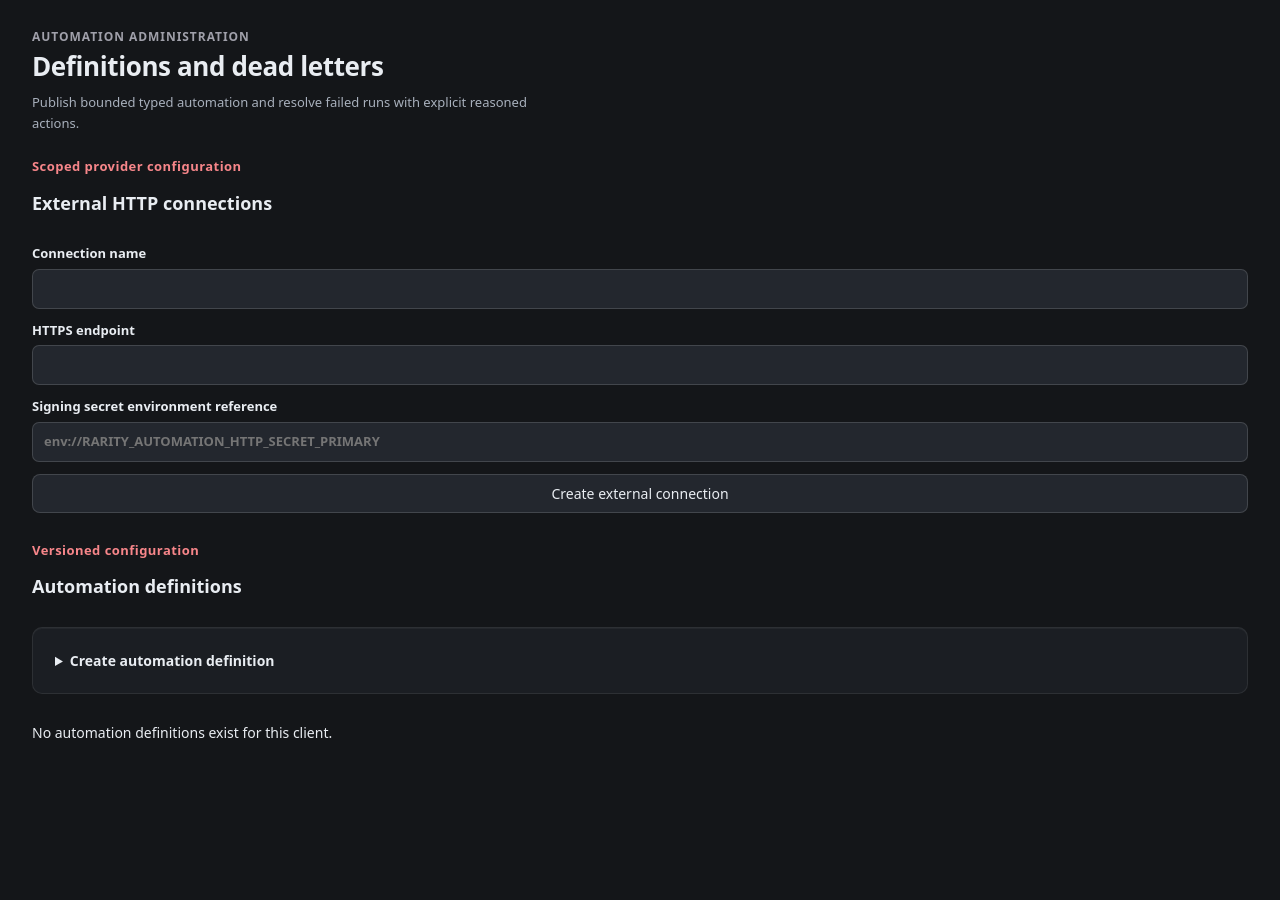
Test: creates a scoped external HTTP connection for typed automation steps
Expected: the text "No automation definitions exist for this client." is shown, [32,723,332,742]
Type "Synthetic callback" into the field labelled "Connection name" at (640, 289), box [32,269,1248,309]
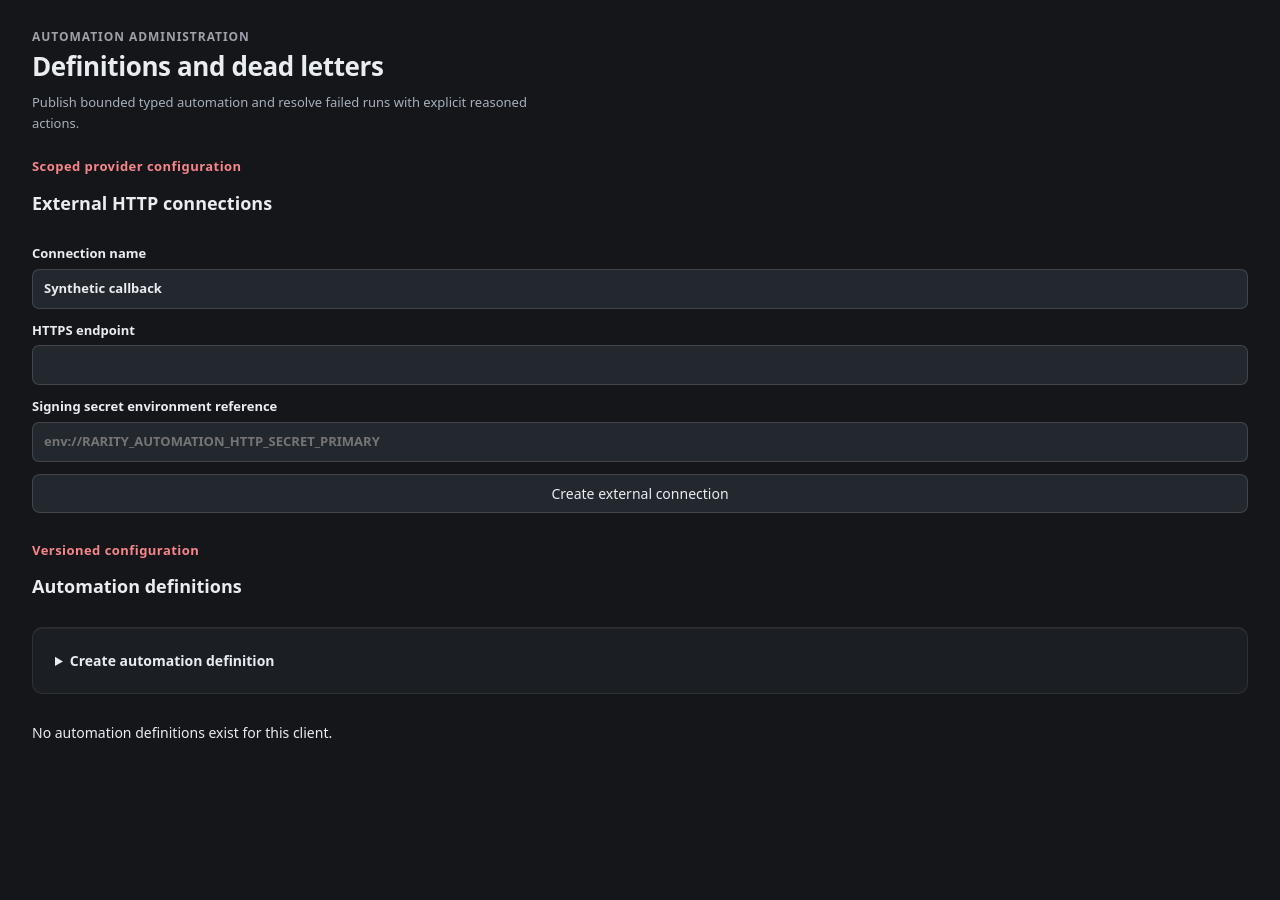
Type "https://httpbin.org/status/204" into the field labelled "HTTPS endpoint" at (640, 365), box [32,345,1248,385]
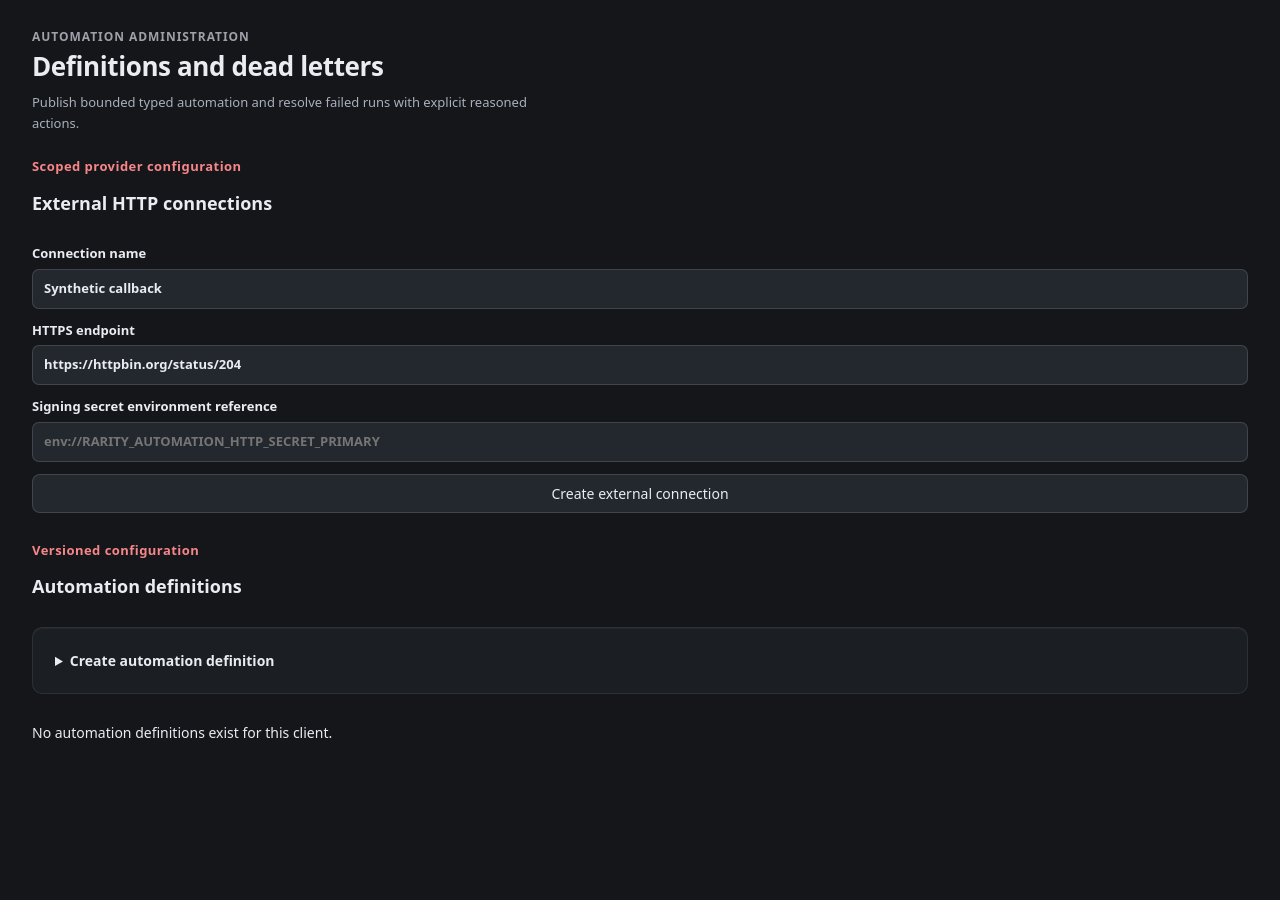
Type "env://RARITY_AUTOMATION_HTTP_SECRET_ACCEPTANCE" into the field labelled "Signing secret environment reference" at (640, 442), box [32,422,1248,462]
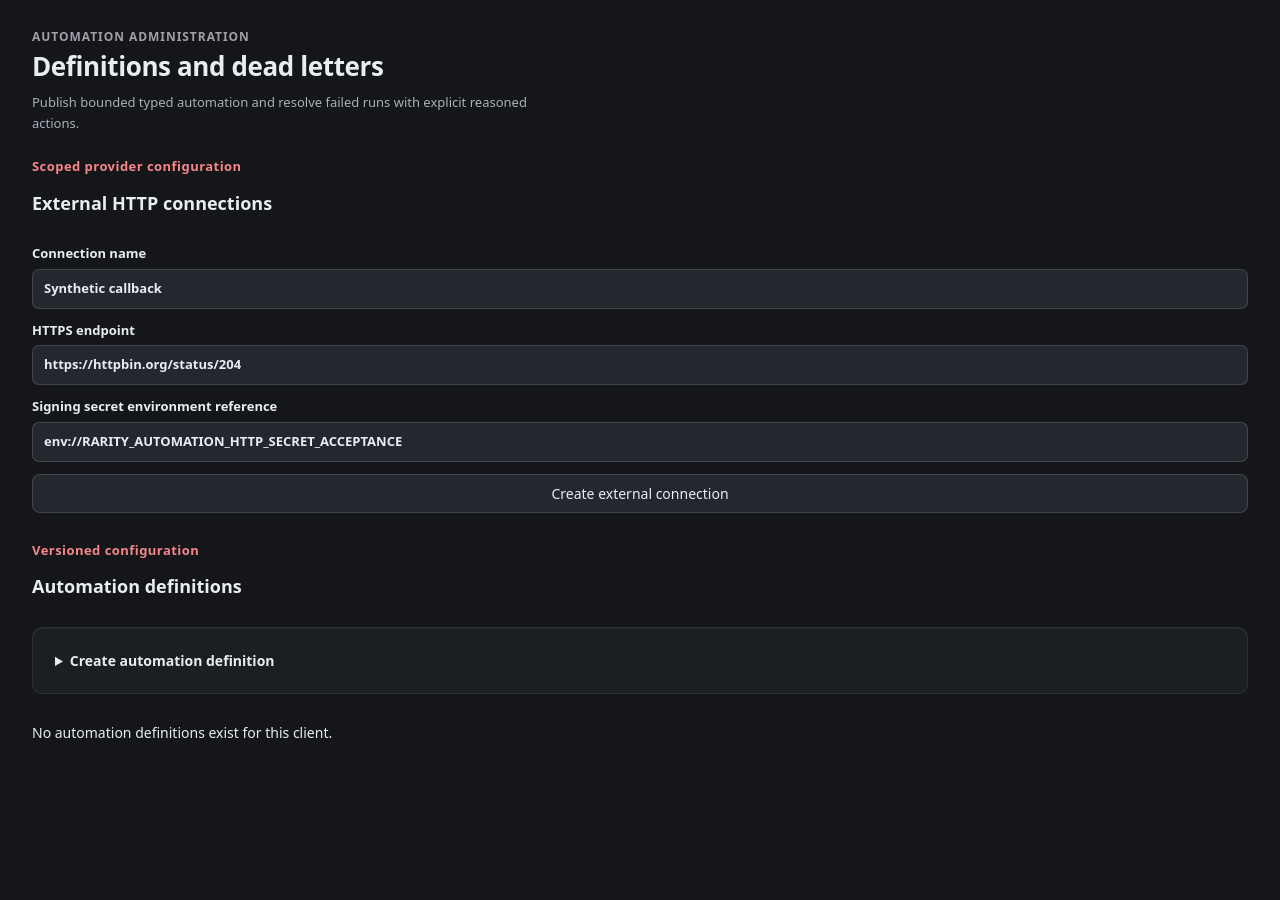
Click the button "Create external connection" at (640, 493), box [32,474,1248,513]
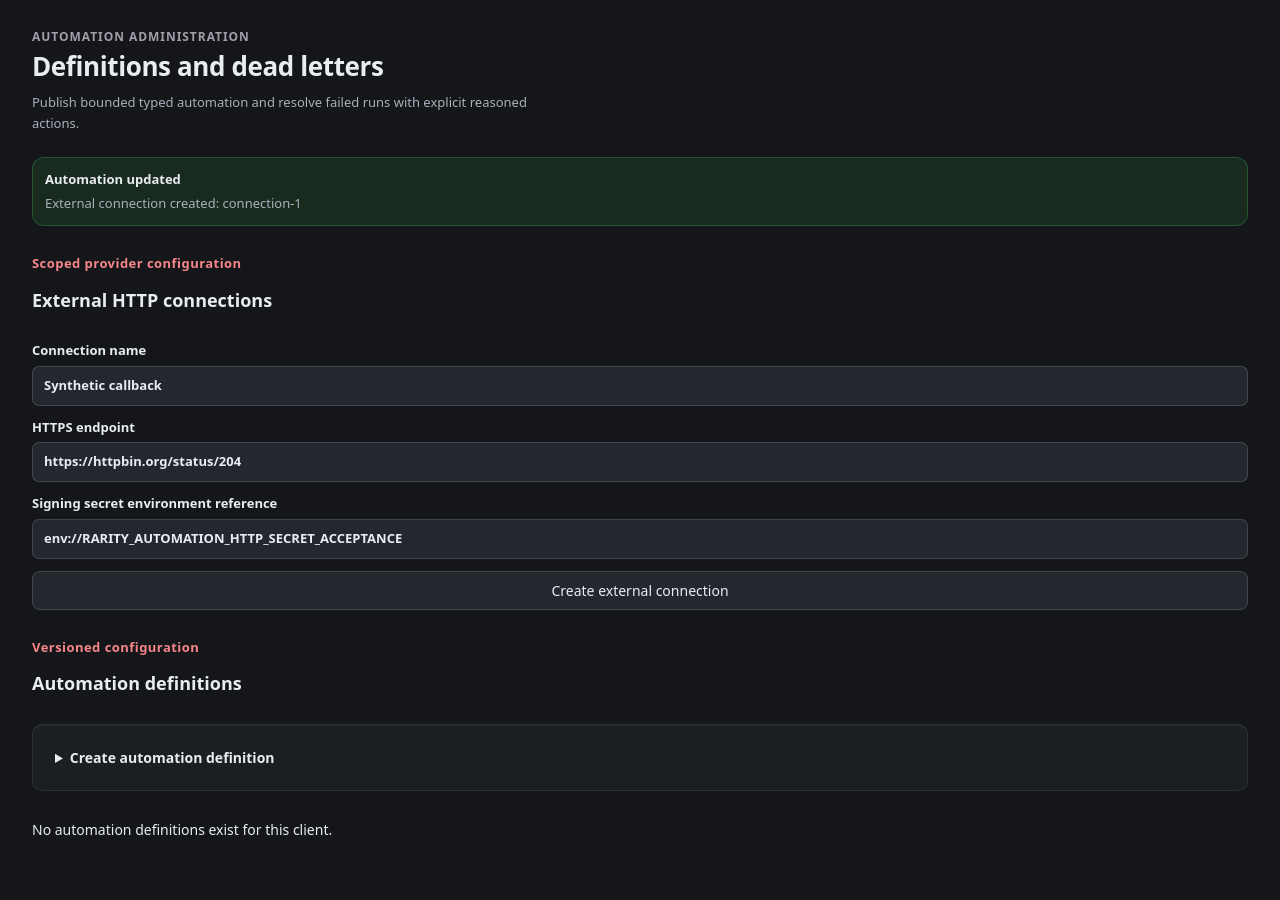
Expected: the text "External connection created: connection-1" is shown, [45,194,302,212]
